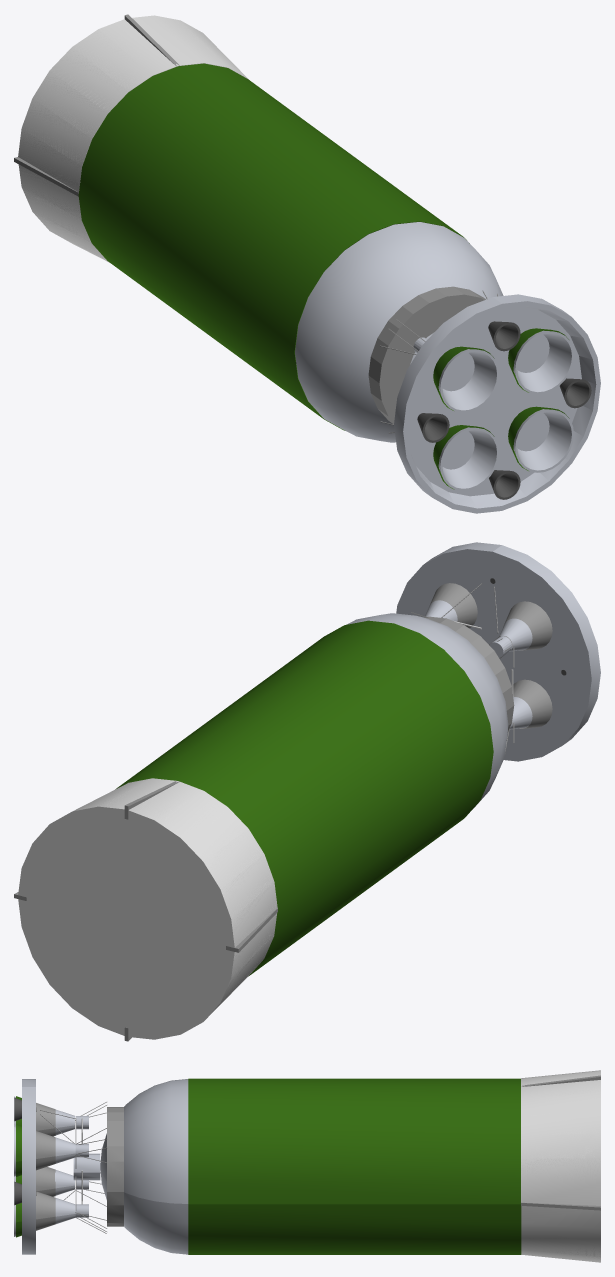
File: r7blocki.obj
The picture shows the model from 3 angles, top to bottom: view 1: azimuth 30°, elevation 25°; view 2: azimuth 150°, elevation 25°; view 3: azimuth 270°, elevation 25°; orthographic projection. The views are drawn at different scales.
Visible parts, largest first — view 1: group22, group6, group12, group0, group5, group62, group9, group10, group7, group8, group68, group67 (+2 smaller); view 2: group22, group5, group6, group0, group12, group62, group36, group37, group34, group13; view 3: group22, group0, group12, group5, group6, group62, group21, group35, group34, group36, group37, group14 (+6 smaller).
Boxes of the visible parts, x1,y1,x2,y2 form: group22: (78,63,469,430); group6: (394,294,600,513); group12: (295,222,503,442); group0: (18,15,247,262); group5: (18,16,248,261); group62: (368,286,485,424); group9: (438,427,499,490); group10: (513,409,573,472); group7: (438,349,499,412); group8: (513,331,573,394); group68: (417,413,449,442); group67: (488,321,520,351); group22: (115,620,493,976); group5: (18,778,277,1039); group6: (396,542,600,761); group0: (73,778,277,1019); group12: (346,613,508,808); group62: (425,616,514,732); group36: (503,601,552,650); group37: (512,679,552,728); group34: (430,583,477,628); group13: (499,618,532,651); group22: (188,1078,521,1254); group0: (521,1070,600,1262); group12: (100,1079,188,1254); group5: (521,1070,600,1261); group6: (22,1079,35,1254); group62: (107,1107,123,1226); group21: (73,1153,100,1180); group35: (36,1191,55,1230); group34: (36,1131,55,1170); group36: (36,1103,55,1136); group37: (36,1167,55,1196); group14: (55,1137,75,1163).
Size of the model in its own units: 3 by 3 by 8.81.
